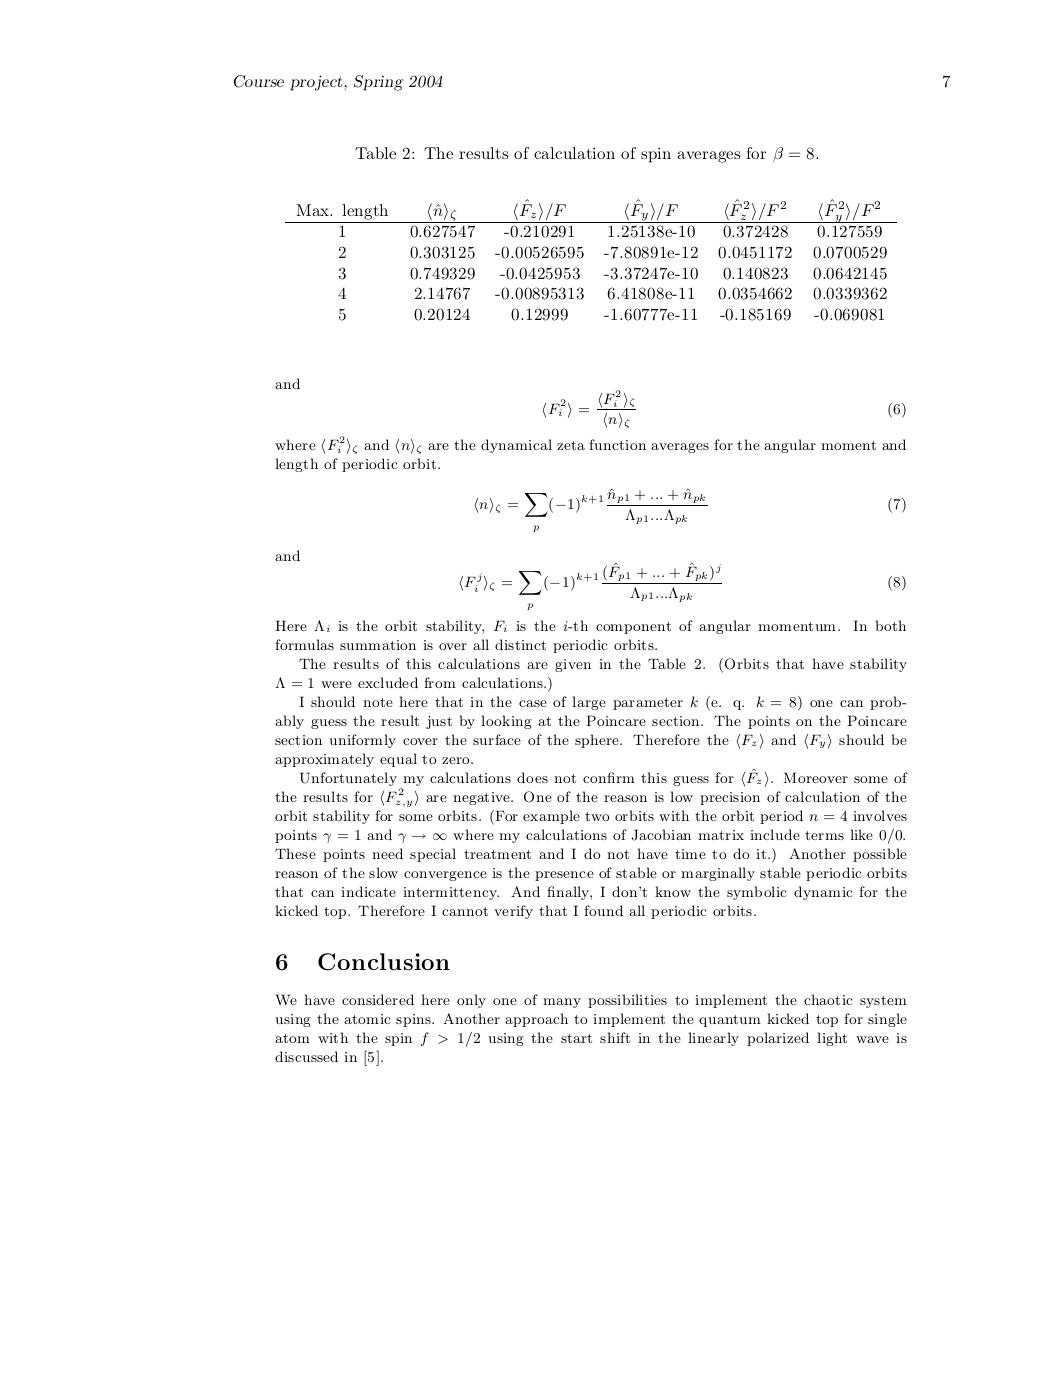Table: (285, 199, 896, 320)
formula: (459, 562, 905, 608), (473, 485, 905, 530), (542, 390, 905, 427)
